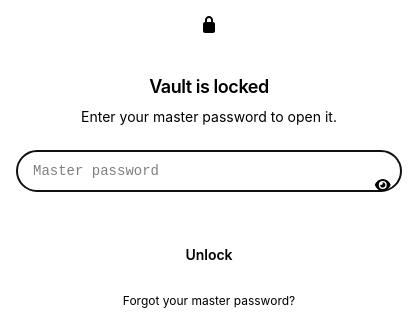
Test: VaultLockedScreen › says the password was wrong, clears the field and keeps focus there
In the password field labelled "Master password": (209, 171) [17,151,401,191], type "nope nope nope"
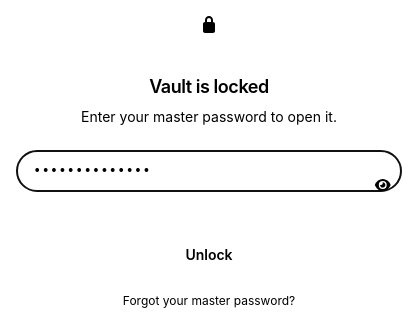
Click the button "Unlock": (209, 255) [17,235,401,275]
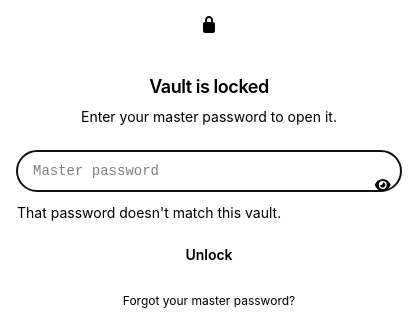
Check: the message shows "doesn't match", box [17,204,281,221]
Check: the password field labelled "Master password" is empty, box [17,151,401,191]
